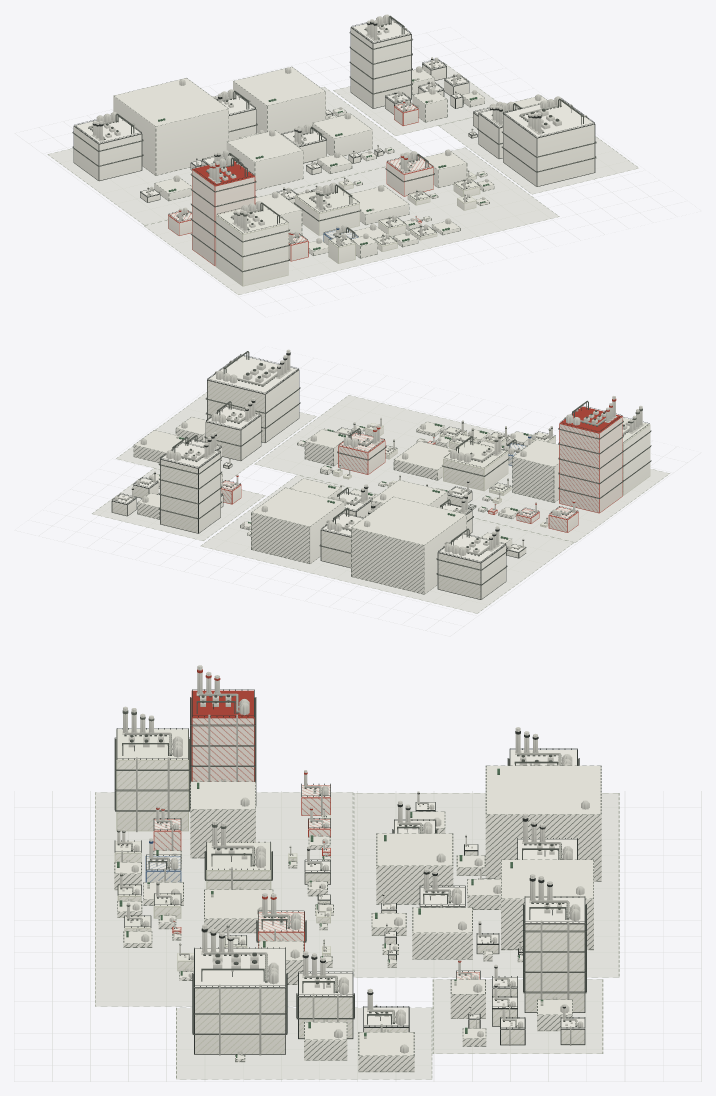
Rendered from plant.glb.
3 renders of one model, top to bottom at view 1: azimuth 30°, elevation 25°; view 2: azimuth 150°, elevation 25°; view 3: azimuth 270°, elevation 25°, orthographic. The views are drawn at different scales.
Visible parts, largest first — view 1: ground, annex-1, mass-11, mass-40, mass-5, annex-2, mass-12, mass-1, annex-38, mass-15, annex-31, annex-15 (+17 smaller); view 2: ground, annex-1, mass-12, annex-2, mass-5, mass-11, mass-1, annex-12, mass-15, mass-10, mass-40, annex-15 (+19 smaller); view 3: ground, annex-1, mass-11, mass-40, mass-5, mass-12, annex-2, annex-38, annex-12, annex-31, crown-11, crown-5 (+29 smaller).
Part boxes in pixels (left/top/right/bottom): ground: left=39, top=56, right=673, bottom=307; annex-1: left=113, top=78, right=228, bottom=175; mass-11: left=503, top=99, right=595, bottom=186; mass-40: left=216, top=205, right=288, bottom=286; mass-5: left=350, top=18, right=411, bottom=108; annex-2: left=233, top=66, right=325, bottom=134; mass-12: left=192, top=161, right=255, bottom=266; mass-1: left=73, top=116, right=142, bottom=181; annex-38: left=226, top=130, right=303, bottom=190; mass-15: left=295, top=187, right=359, bottom=235; annex-31: left=312, top=113, right=372, bottom=156; annex-15: left=348, top=185, right=409, bottom=225; ground: left=66, top=362, right=687, bottom=626; annex-1: left=351, top=496, right=466, bottom=594; mass-12: left=559, top=406, right=622, bottom=513; annex-2: left=251, top=487, right=344, bottom=563; mass-5: left=160, top=442, right=220, bottom=533; mass-11: left=207, top=355, right=299, bottom=442; mass-1: left=437, top=534, right=506, bottom=599; annex-12: left=512, top=439, right=559, bottom=502; mass-15: left=443, top=441, right=508, bottom=491; mass-10: left=205, top=406, right=261, bottom=460; mass-40: left=622, top=418, right=650, bottom=495; annex-15: left=393, top=441, right=453, bottom=480; ground: left=14, top=791, right=701, bottom=1081; annex-1: left=485, top=765, right=601, bottom=881; mass-11: left=194, top=948, right=285, bottom=1054; mass-40: left=116, top=729, right=188, bottom=831; mass-5: left=524, top=897, right=585, bottom=1012; mass-12: left=191, top=690, right=254, bottom=781; annex-2: left=501, top=859, right=593, bottom=949; annex-38: left=376, top=833, right=453, bottom=904; annex-12: left=190, top=781, right=255, bottom=858; annex-31: left=412, top=907, right=472, bottom=959; crown-11: left=192, top=924, right=287, bottom=1057; crown-5: left=523, top=874, right=586, bottom=1012.
Size of what is drawn, in the model's own units: 920 by 204 by 920.
82 materials, 7 textured.
